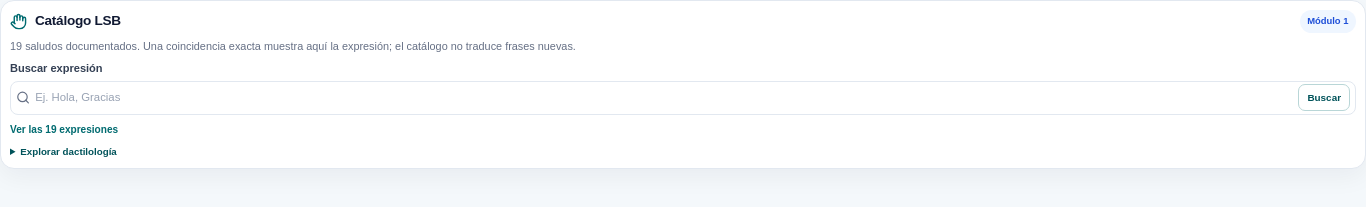
Scenario: LsbExpressionPanel › asks for a phrase when an empty catalog search is submitted
Click the button "Buscar" at point(1324, 98), box x1=1298 y1=84 x2=1350 y2=111
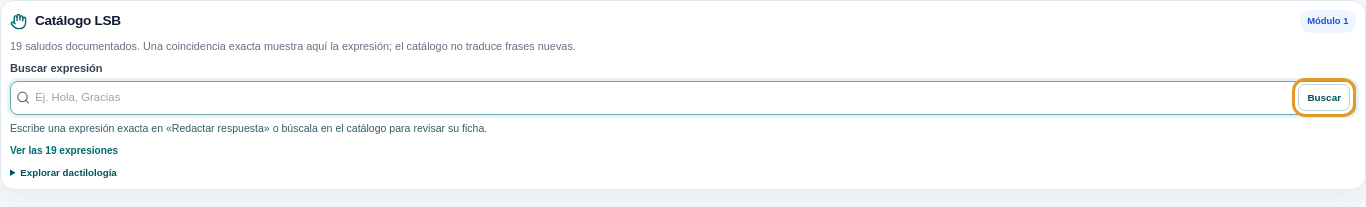
Expected: the text "en «Redactar respuesta»" is shown, x1=10 y1=122 x2=487 y2=134
